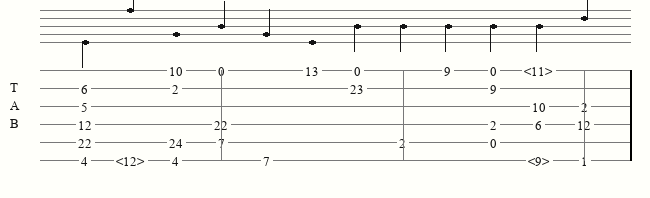0: (218, 64, 229, 77), (354, 64, 365, 77), (490, 64, 501, 77), (490, 136, 501, 149)
1: (581, 154, 592, 167)
10: (169, 64, 187, 77), (532, 100, 550, 113)
12: (78, 118, 96, 131), (577, 118, 595, 131)
13: (305, 64, 323, 77)
2: (172, 82, 183, 95), (399, 136, 410, 149), (490, 118, 501, 131), (581, 100, 592, 113)
22: (78, 136, 96, 149), (214, 118, 232, 131)
23: (350, 82, 368, 95)
24: (169, 136, 187, 149)
4: (81, 154, 92, 167), (172, 154, 183, 167)
5: (81, 100, 92, 113)
6: (81, 82, 92, 95), (535, 118, 546, 131)
7: (218, 136, 229, 149), (263, 154, 274, 167)
9: (444, 64, 455, 77), (490, 82, 501, 95)
harmonic: (116, 154, 149, 167), (524, 64, 557, 77), (528, 154, 554, 167)
